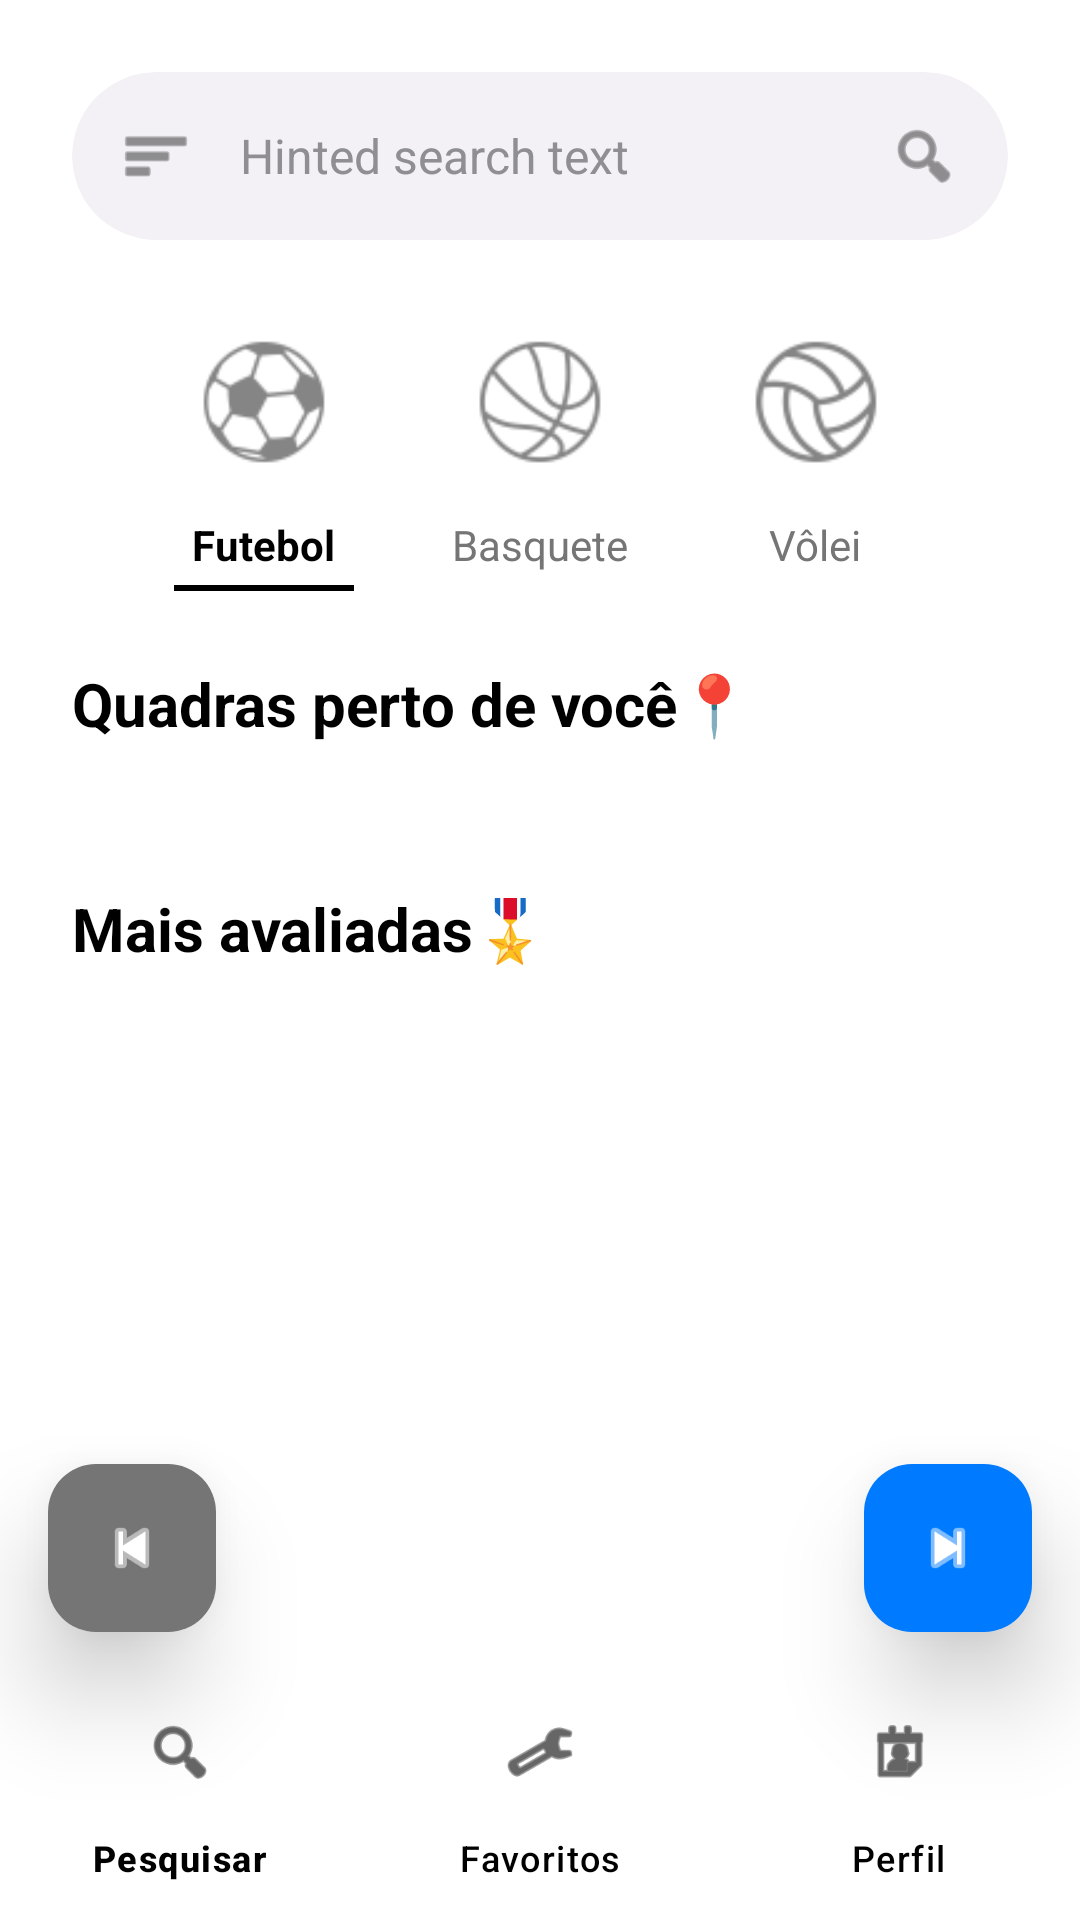

Screen size 1080w x 1920h. Icon name, then its center in pixels as (x=x, y=y):
next: (x=948, y=1548)
previous: (x=132, y=1548)
sort by size: (x=156, y=156)
volei: (x=816, y=402)
